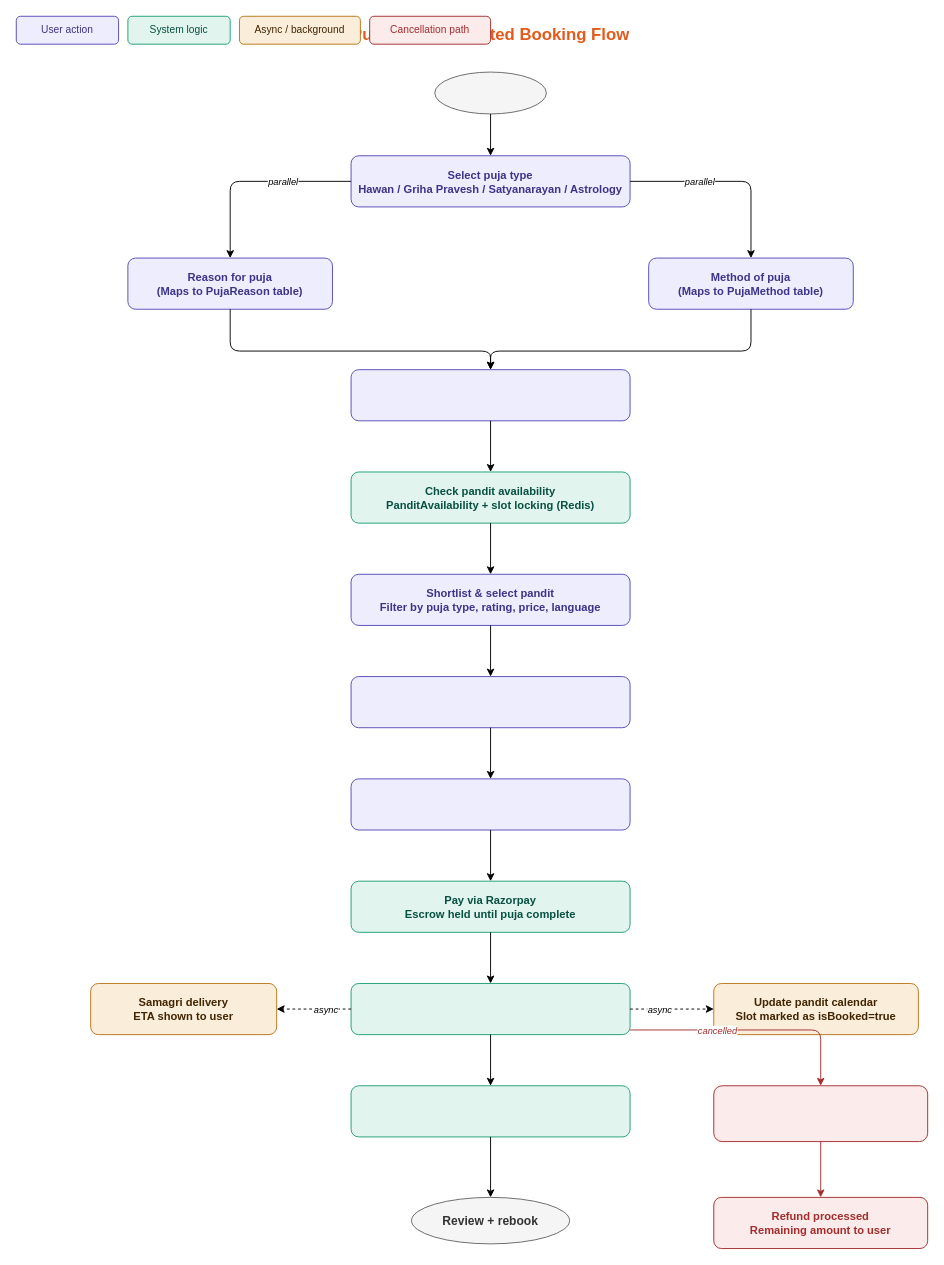
Some shapes in this 944 by 1265 pixel diagram are drawn without their labels. Each missing label, with the centre of its shape:
Add to cart Slot locked · Expires in 15 min (lockExpiresAt): (x=490, y=804)
If cancelled 30% order fee + 50% pandit charge: (x=820, y=1113)
Open app: (x=490, y=92)
Order placed Pandit notified · Samagri delivery scheduled: (x=490, y=1009)
Puja completed Escrow released to pandit (T+1): (x=490, y=1111)
Select date & muhurat From PanditWeeklySchedule + DayOverrides: (x=490, y=395)
View total cost + samagri options Optional add-ons · Snapshot pricing (CartItem): (x=490, y=702)
